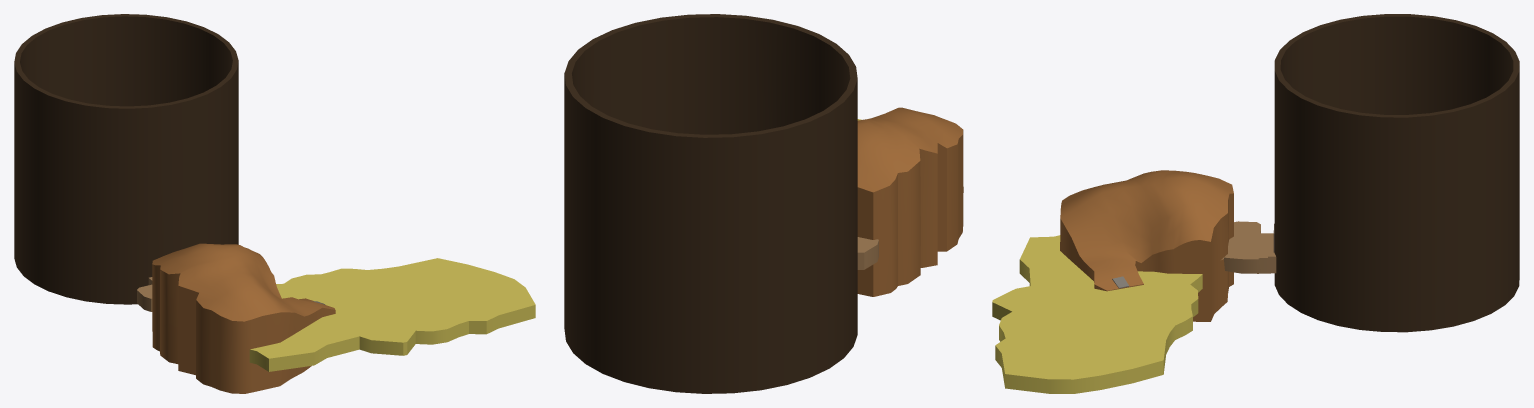
The model's file is Blocking_Tuto_Structure.fbx.
3 views of the same model, side by side, from view 1: azimuth 30°, elevation 25°; view 2: azimuth 150°, elevation 25°; view 3: azimuth 270°, elevation 25° (orthographic). The views are drawn at different scales.
Visible parts, largest first — view 1: Tour.001, Sol.001, Grotte.001; view 2: Tour.001, Grotte.001, Sol.002; view 3: Tour.001, Sol.001, Grotte.001, Sol.002.
Boxes of the visible parts, left/top/right/bottom form: Tour.001: left=14, top=14, right=238, bottom=304; Sol.001: left=249, top=258, right=535, bottom=371; Grotte.001: left=152, top=243, right=335, bottom=393; Tour.001: left=564, top=14, right=857, bottom=393; Grotte.001: left=857, top=107, right=963, bottom=296; Sol.002: left=857, top=237, right=878, bottom=269; Tour.001: left=1274, top=14, right=1519, bottom=332; Sol.001: left=992, top=235, right=1202, bottom=393; Grotte.001: left=1060, top=170, right=1233, bottom=321; Sol.002: left=1224, top=221, right=1276, bottom=273.
Size of the model in its own units: 134 by 80.31 by 165.
